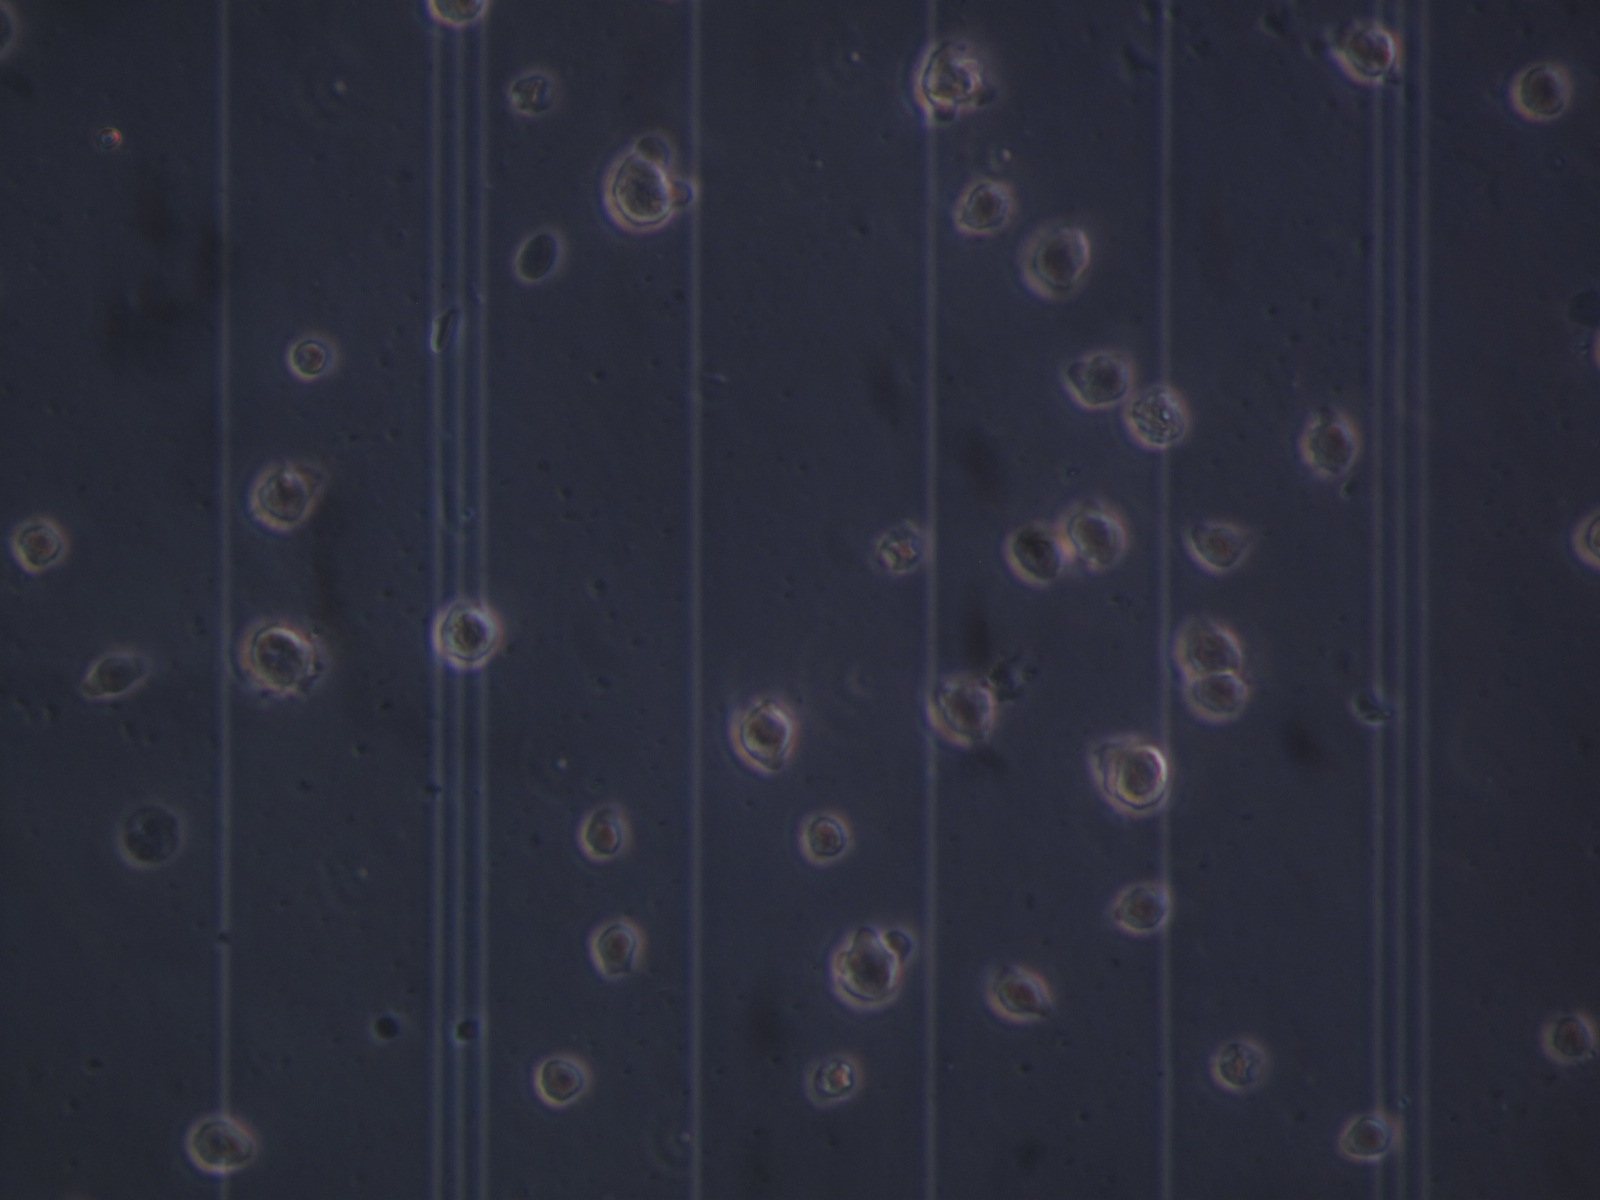hemo: (601, 147, 674, 236), (1017, 223, 1092, 303), (236, 618, 317, 691), (835, 924, 901, 1012), (430, 597, 505, 671), (116, 798, 186, 870), (913, 42, 988, 110), (729, 698, 795, 774), (1104, 746, 1172, 818), (249, 464, 316, 536), (926, 679, 997, 746), (1169, 616, 1245, 678), (1060, 503, 1129, 570), (1003, 519, 1070, 587), (1123, 384, 1188, 451), (186, 1112, 254, 1175), (986, 961, 1049, 1024), (1509, 61, 1574, 122), (1338, 21, 1400, 83), (14, 517, 74, 576), (804, 1051, 866, 1109), (797, 805, 853, 870), (590, 916, 645, 979), (1179, 671, 1249, 721), (1073, 350, 1133, 408), (872, 518, 929, 579), (1211, 1034, 1266, 1095), (957, 175, 1015, 233), (1301, 416, 1359, 474), (533, 1053, 590, 1111), (1191, 514, 1249, 570), (1111, 881, 1172, 933), (287, 329, 341, 384), (1541, 1010, 1595, 1065), (517, 226, 566, 284), (582, 809, 631, 865), (93, 650, 144, 700), (506, 72, 558, 115), (1340, 1114, 1388, 1160), (630, 129, 682, 169), (660, 170, 700, 213), (430, 1, 493, 26), (1571, 513, 1600, 563)
